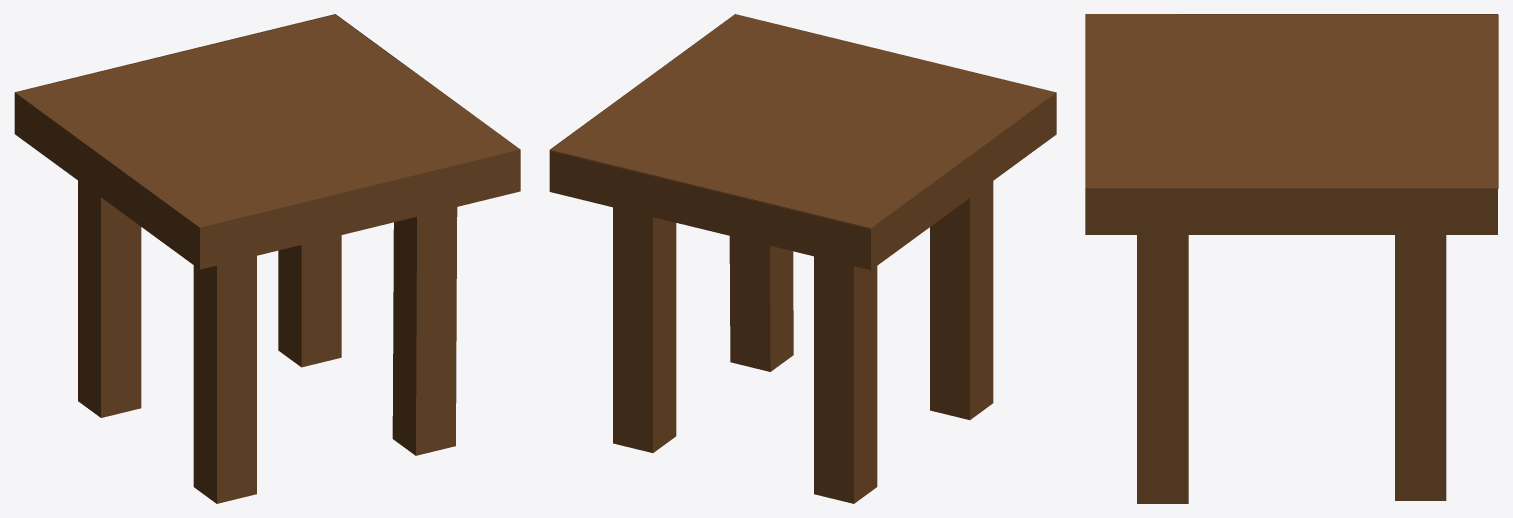
The model's file is tableTest.dae.
The picture shows the model from 3 angles, left to right: view 1: azimuth 30°, elevation 25°; view 2: azimuth 150°, elevation 25°; view 3: azimuth 270°, elevation 25°; orthographic projection. The views are drawn at different scales.
Visible parts, largest first — view 1: Cube_001; view 2: Cube_001; view 3: Cube_001.
Boxes of the visible parts, x1,y1,x2,y2 form: Cube_001: [14, 14, 520, 503]; Cube_001: [549, 14, 1056, 503]; Cube_001: [1085, 14, 1498, 503].
Bounding box in the file's own units: 2 × 2 × 1.81.
